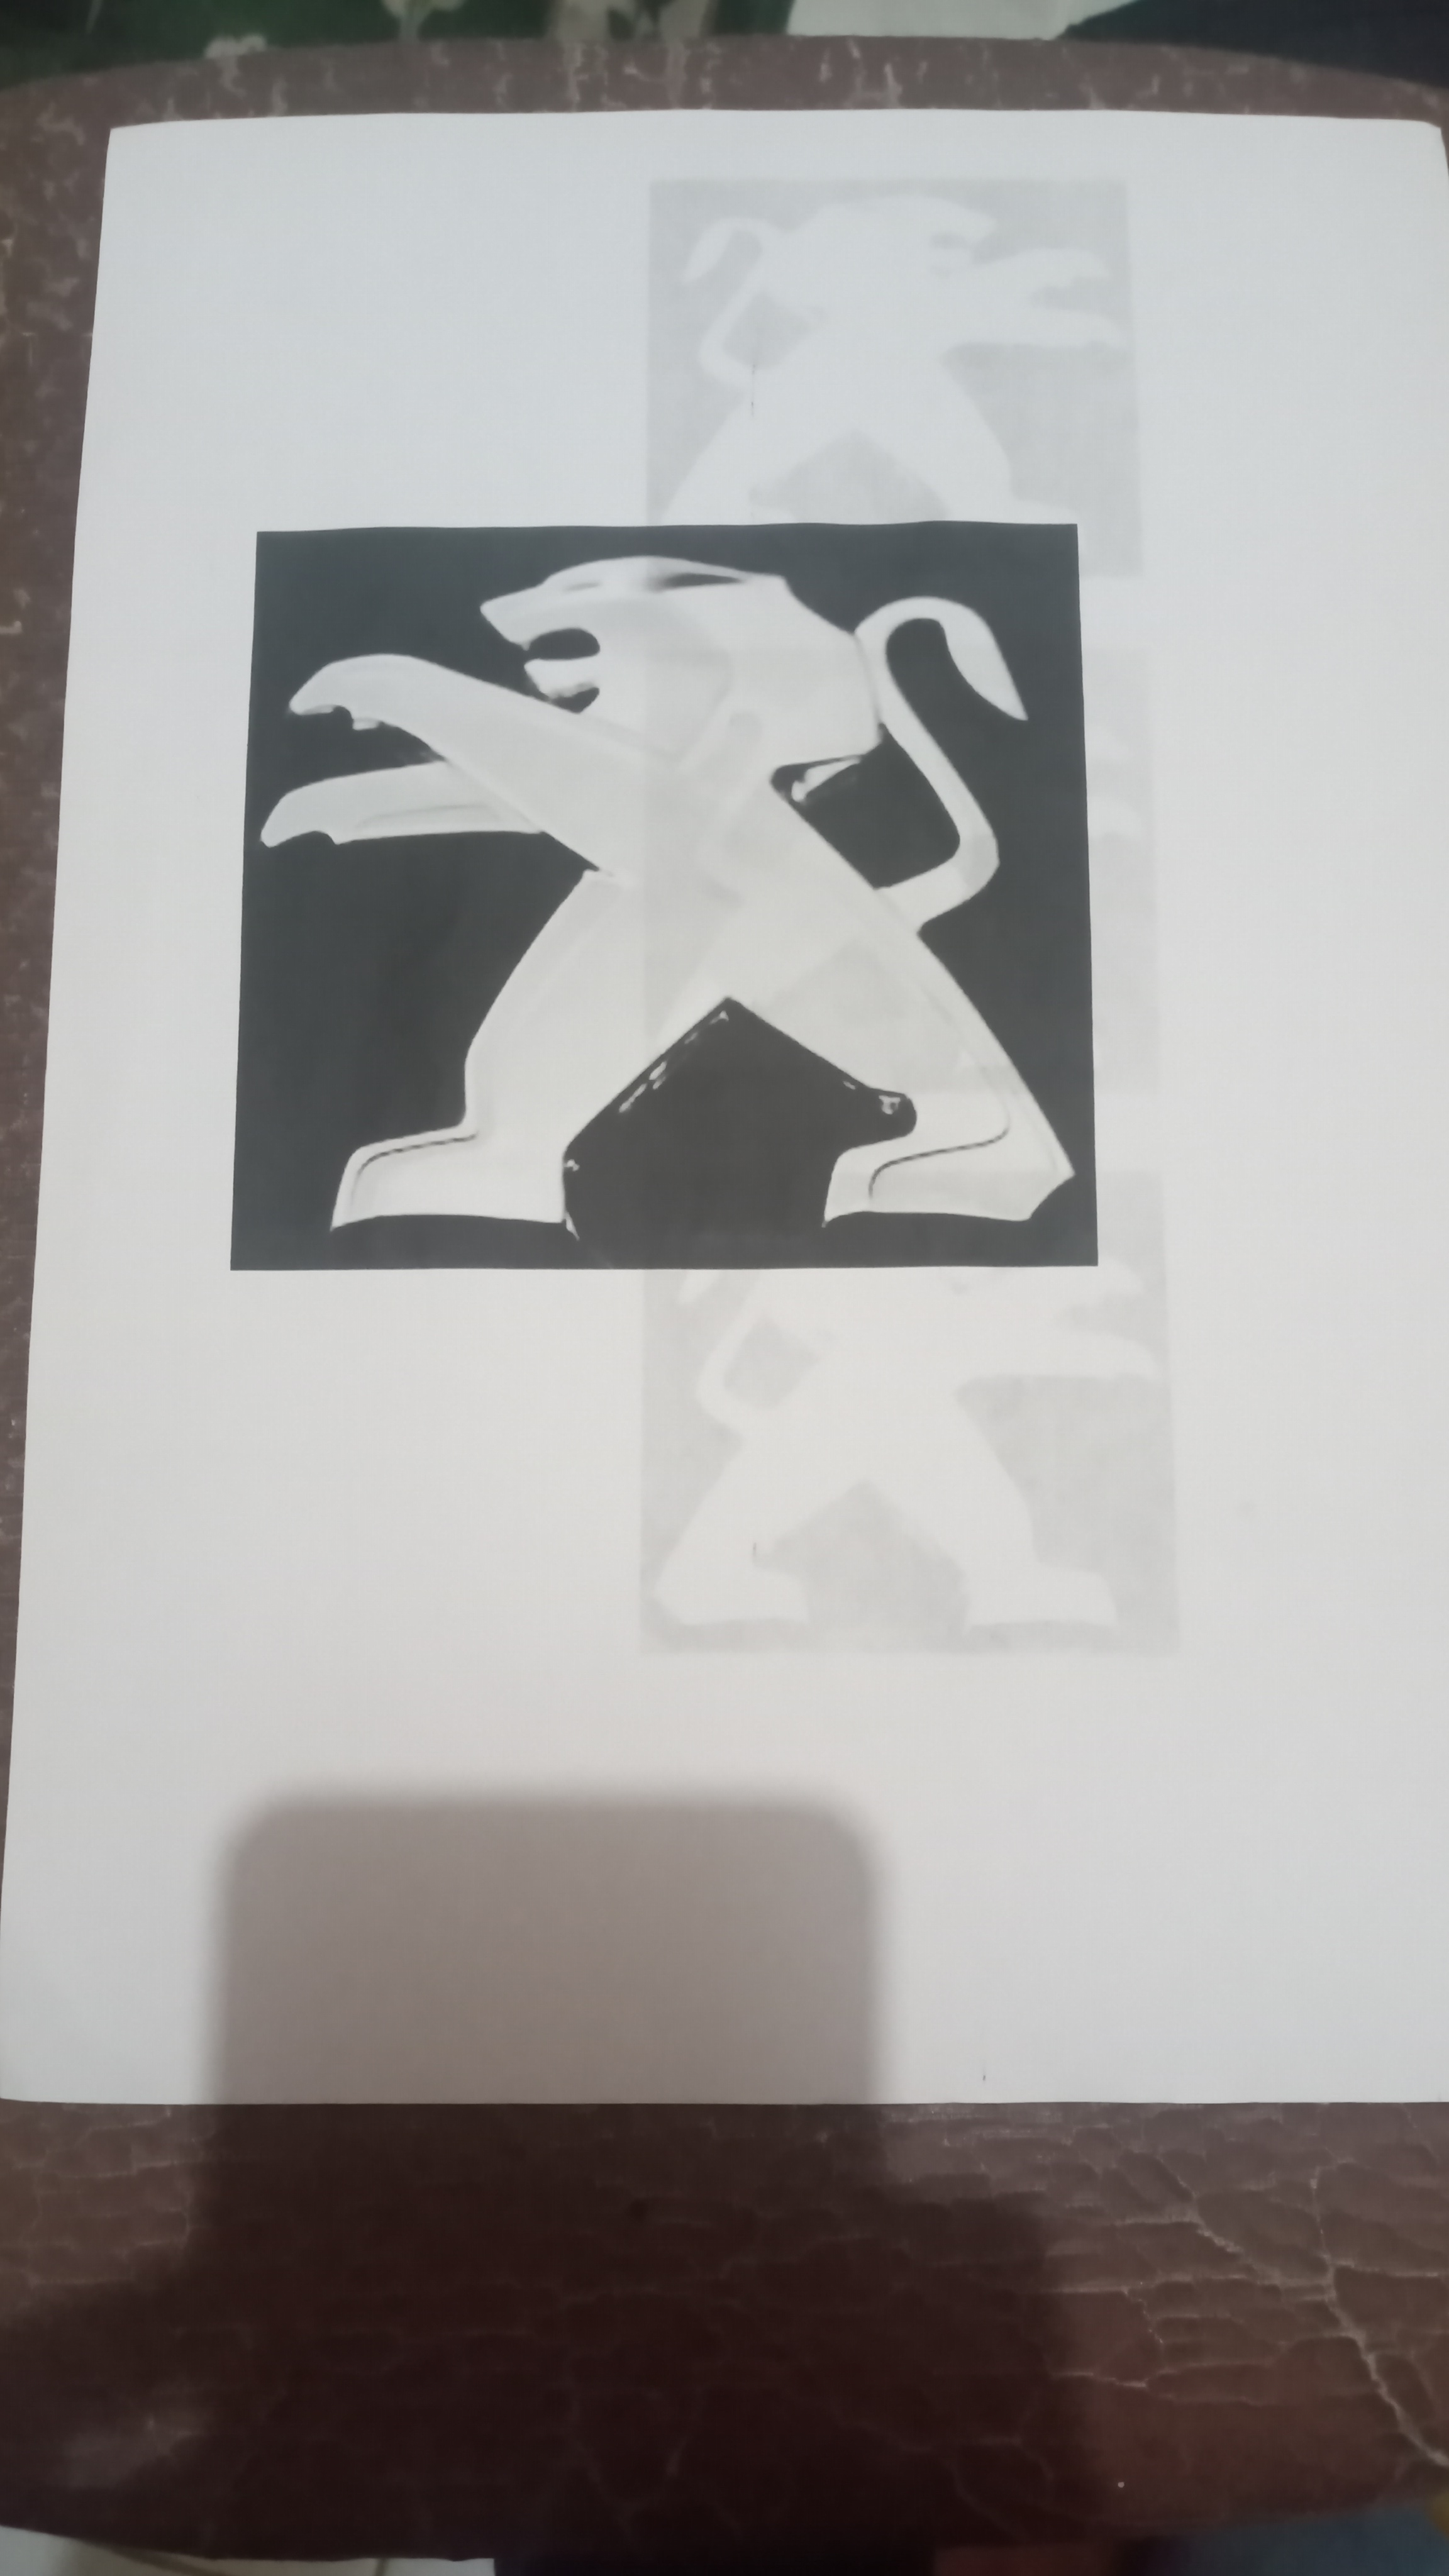Peugeot: (253, 531, 1088, 1260)
